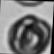correct: (3, 8, 54, 54)
